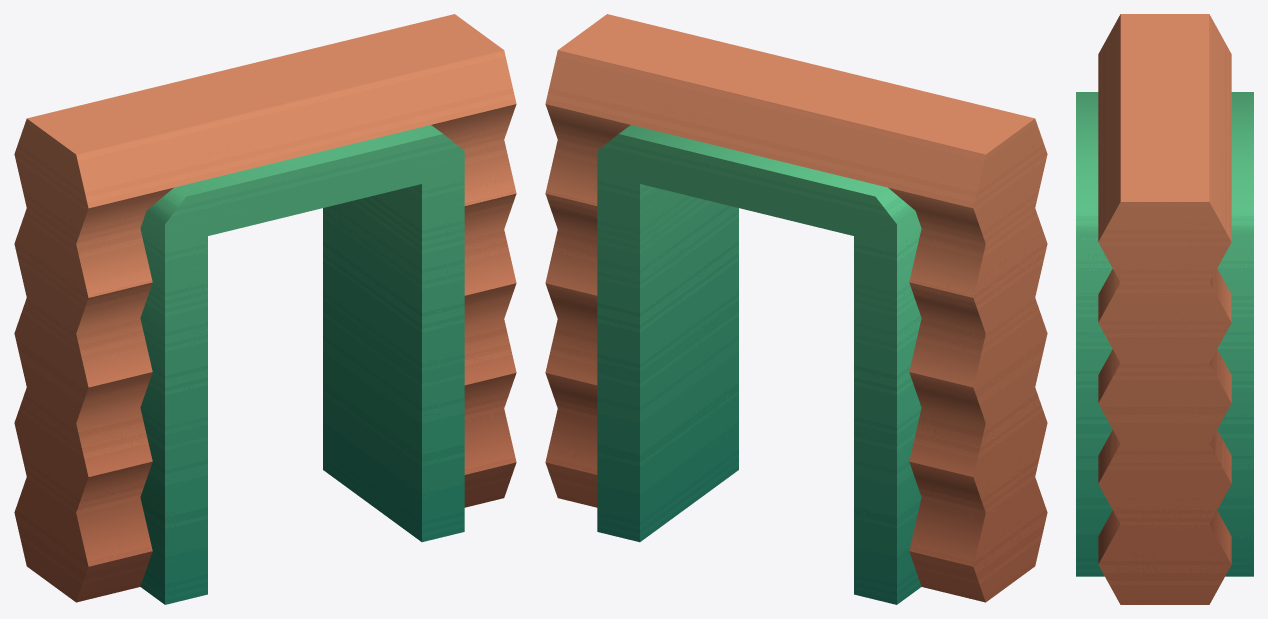
Rendered from cabin-doorway.glb.
3 renders of one model, left to right at view 1: azimuth 30°, elevation 25°; view 2: azimuth 150°, elevation 25°; view 3: azimuth 270°, elevation 25°, orthographic. The views are drawn at different scales.
Visible parts, largest first — view 1: cabin-doorway; view 2: cabin-doorway; view 3: cabin-doorway.
Boxes of the visible parts, x1,y1,x2,y2 form: cabin-doorway: (14,14,516,604); cabin-doorway: (545,14,1047,604); cabin-doorway: (1076,14,1253,604).
Bounding box in the file's own units: 3 × 3 × 1.2.
1 material, 1 textured.
